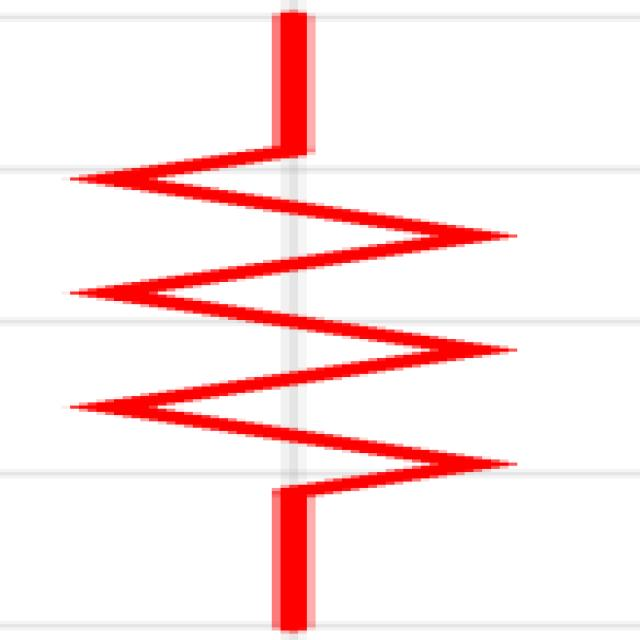res: (29, 10, 631, 632)
